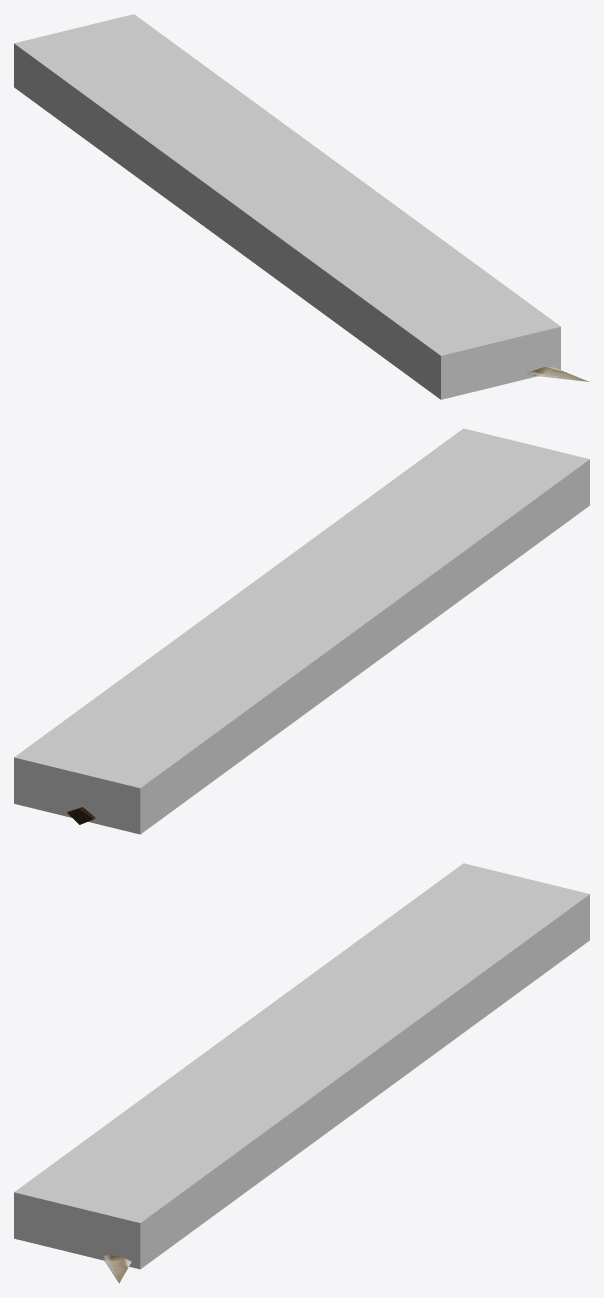
3 views of the same model, one above another, from view 1: azimuth 30°, elevation 25°; view 2: azimuth 150°, elevation 25°; view 3: azimuth 330°, elevation 25° (orthographic). The views are drawn at different scales.
Parts seen in each view (by area): view 1: lsat; view 2: lsat; view 3: lsat.
Boxes of the visible parts, x1,y1,x2,y2 form: lsat: (14, 14, 560, 399); lsat: (14, 428, 589, 834); lsat: (14, 863, 589, 1269).
Bounding box in the file's own units: 7.26 × 2.74 × 45.92.
